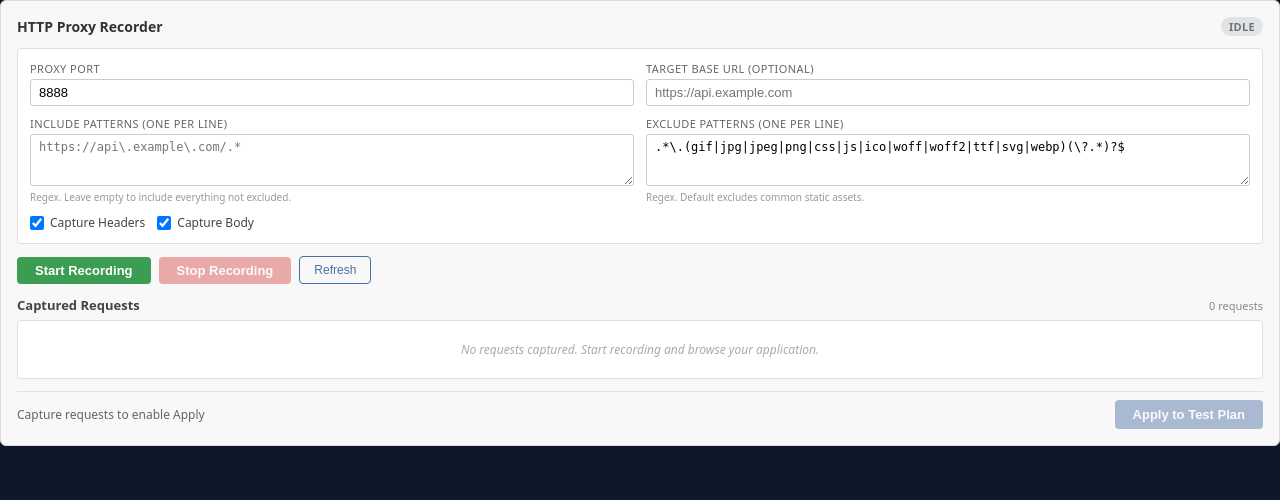
Scenario: ProxyRecorderPanel — refresh › shows error when getCapturedRequests fails on refresh
Click the button with test id "refresh-captured-btn" at (335, 270), box [299, 256, 371, 284]
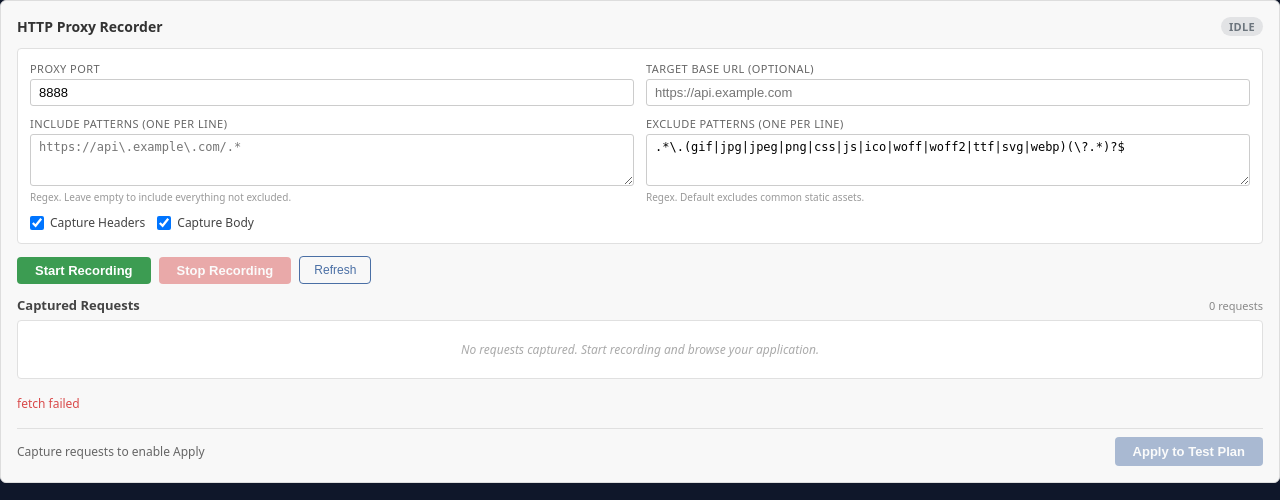
Check: the message with test id "recorder-error" reads "fetch failed", box [17, 395, 80, 412]
